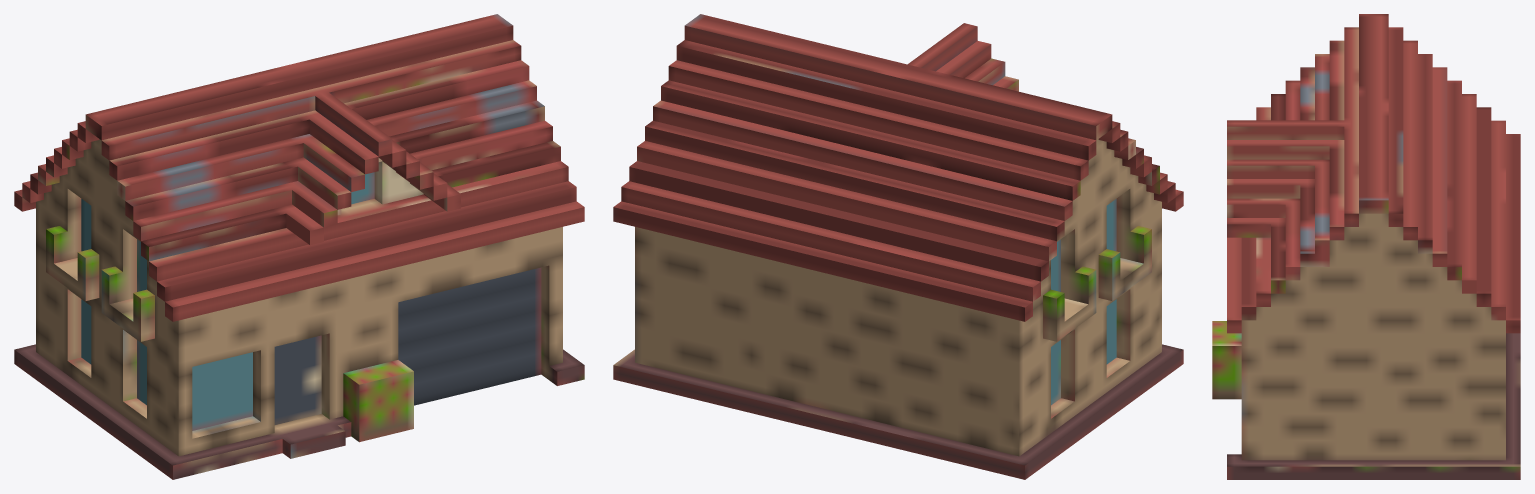
Rendered from 2 little home.fbx.
3 views of the same model, side by side, from view 1: azimuth 30°, elevation 25°; view 2: azimuth 150°, elevation 25°; view 3: azimuth 270°, elevation 25° (orthographic). The views are drawn at different scales.
Visible parts, largest first — view 1: Untitled; view 2: Untitled; view 3: Untitled.
Boxes of the visible parts, x1,y1,x2,y2 form: Untitled: (14,14,584,479); Untitled: (613,14,1183,479); Untitled: (1212,14,1520,479).
Bounding box in the file's own units: 300 × 210 × 210.
Materials: 1 (1 with a texture image).
